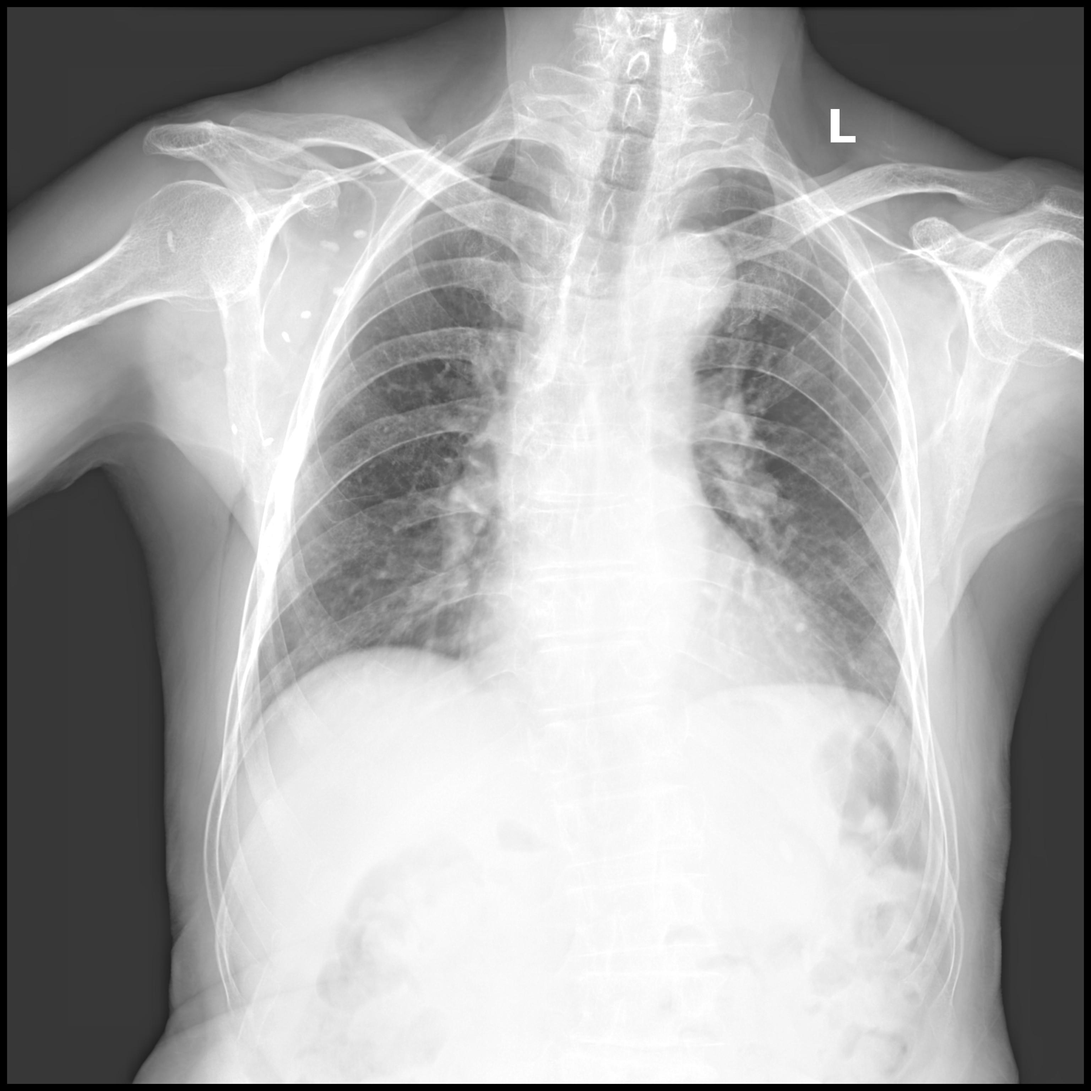Aortic enlargement: (628, 231, 738, 331)
Cardiomegaly: (471, 595, 846, 704)
